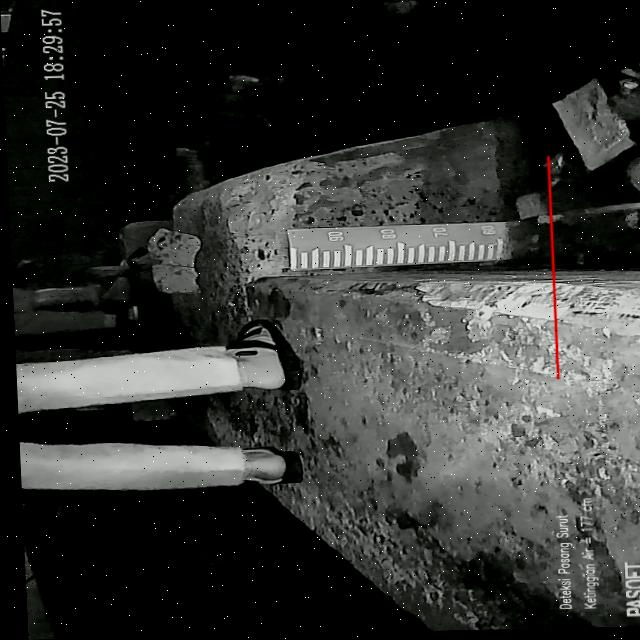water-meter: (283, 218, 517, 273)
